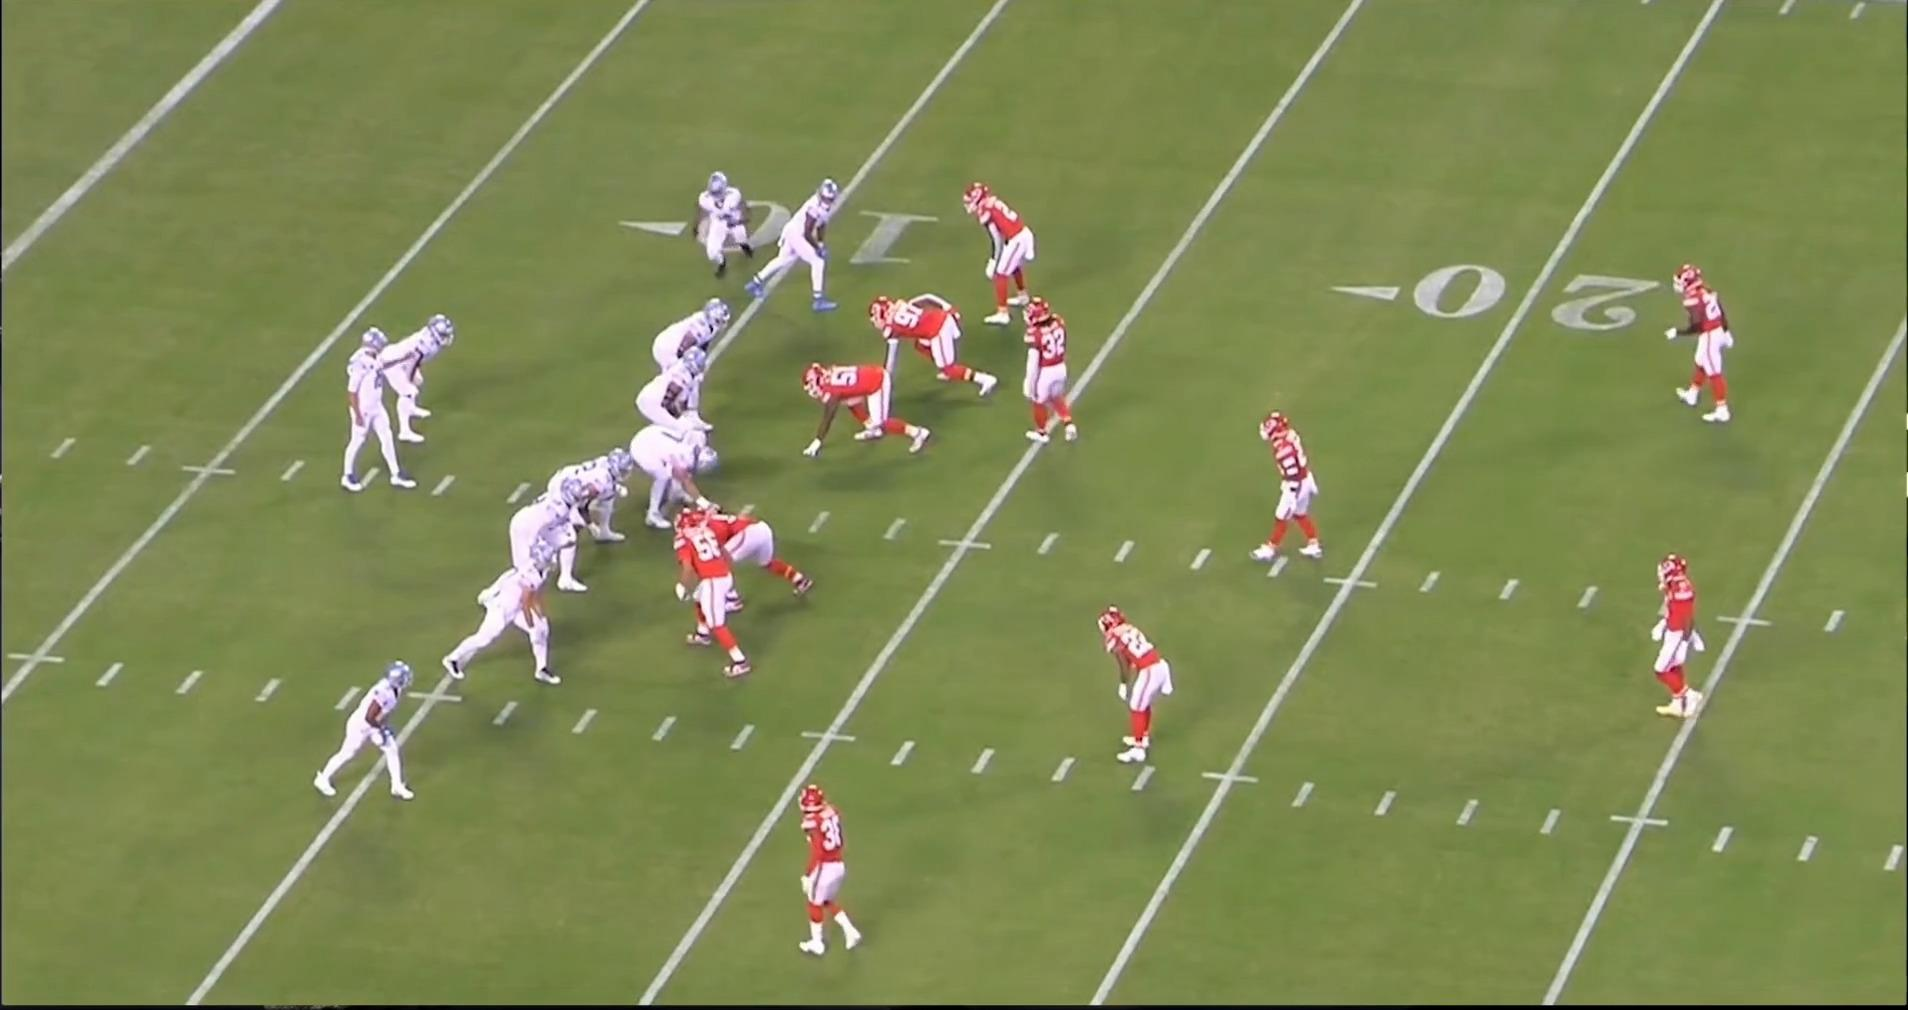player: (447, 544, 573, 690), (308, 659, 425, 810), (743, 176, 853, 316), (326, 331, 415, 502), (865, 288, 1001, 397), (683, 505, 821, 612), (789, 785, 869, 965), (482, 475, 590, 608), (671, 511, 754, 681), (794, 359, 931, 457), (1091, 601, 1168, 769), (1255, 412, 1331, 573), (1642, 544, 1708, 725), (968, 176, 1044, 331), (1672, 265, 1739, 436), (624, 418, 720, 537), (541, 444, 633, 565), (656, 295, 740, 424), (379, 313, 455, 448), (1024, 293, 1087, 452), (640, 348, 725, 464), (686, 161, 763, 284)
